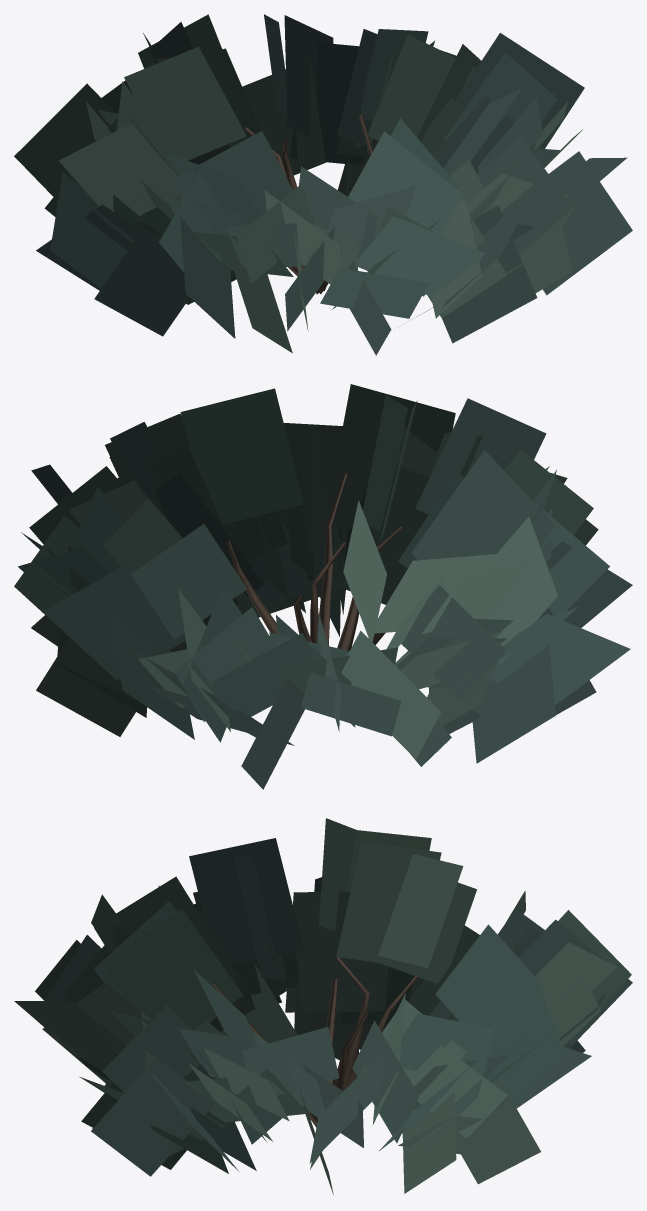
The model's file is shrub.juniper.blue.glb.
The picture shows the model from 3 angles, top to bottom: view 1: azimuth 30°, elevation 25°; view 2: azimuth 150°, elevation 25°; view 3: azimuth 270°, elevation 25°; orthographic projection. The views are drawn at different scales.
Parts seen in each view (by area): view 1: shrub_juniper_blue; view 2: shrub_juniper_blue; view 3: shrub_juniper_blue.
Part boxes in pixels (box(x1,y1,x2,y2)): shrub_juniper_blue: box(14, 14, 632, 355); shrub_juniper_blue: box(14, 384, 632, 789); shrub_juniper_blue: box(14, 818, 632, 1194).
Size of what is drawn, in the model's own units: 2.37 by 1.03 by 2.31.
